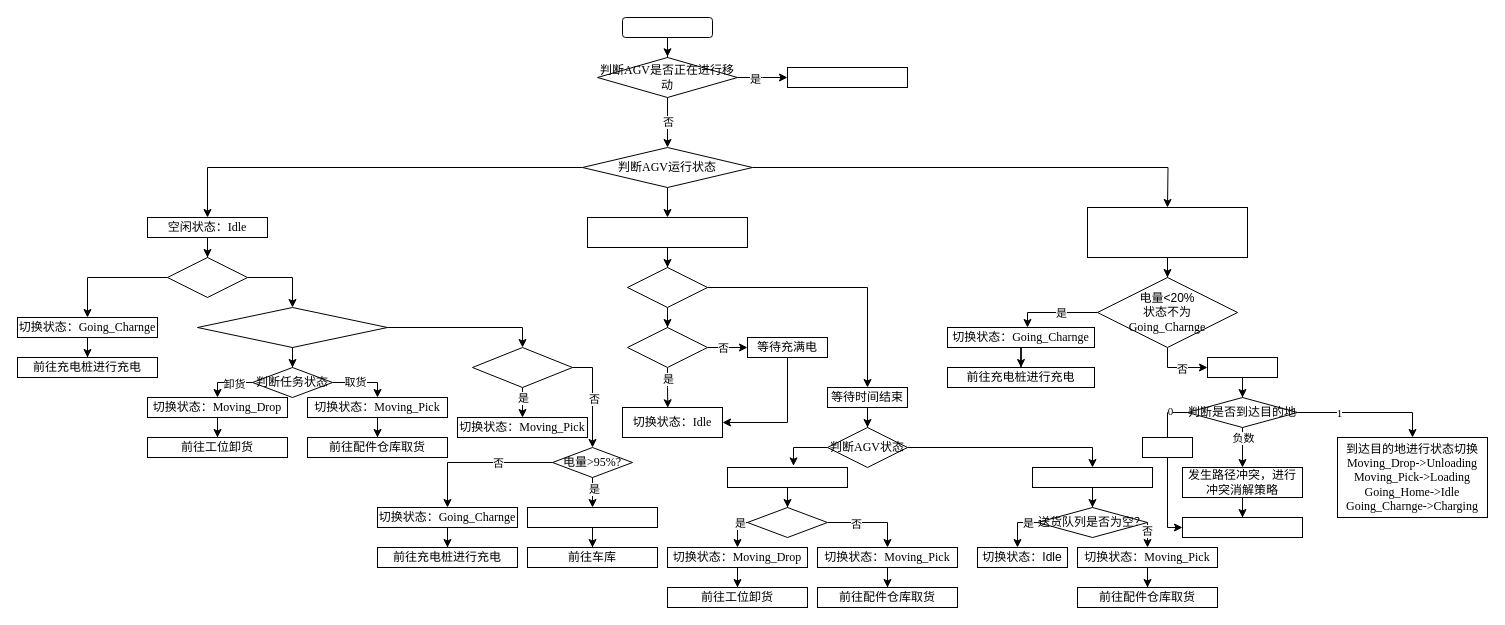
Some shapes in this 1505 by 625 pixel diagram are drawn without their labels. Here are the shapes that lost their labels. From the top down, the centre of each, then its label:
At (667,27): "仿真开始".
At (847,77): "继续移动".
At (667,232): "等待状态： Loading、Unloading、Charging".
At (1167,232): "移动状态：Moving_Drop、Moving_Pick、 G oing_Home、Going_Charnge、Yielding".
At (207,277): "AGV 电量 <20%".
At (667,287): "状态是否为 Charging".
At (292,327): "判断是否有之前因为充电而中断执行的任务".
At (667,347): "电量是否为 100%".
At (522,367): "判断任务队列中是否还有未执行任务".
At (1242,367): "进行移动".
At (1167,447): "未到达".
At (787,477): "状态： Loading".
At (1092,477): "状态： Unloading".
At (592,517): "切换状态： G oing_Home".
At (787,522): "取货队列是否为空？".
At (1242,527): "运行状态不发生改变".
